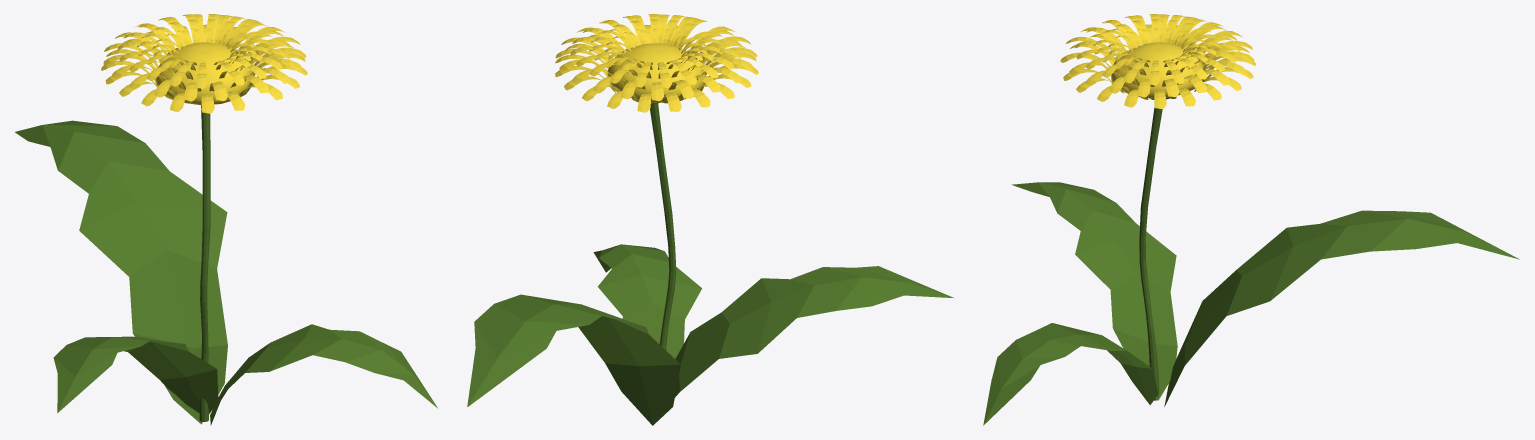
The model's file is Dandelion.fbx.
3 renders of one model, left to right at view 1: azimuth 30°, elevation 25°; view 2: azimuth 150°, elevation 25°; view 3: azimuth 270°, elevation 25°, orthographic. The views are drawn at different scales.
Parts seen in each view (by area): view 1: Plane, Plane.002, Plane.001, Plane.004, Plane.005, Mball.002, Plane.003, Cylinder, Plane.006, Plane.007; view 2: Plane, Plane.002, Plane.001, Plane.004, Plane.005, Plane.003, Mball.002, Cylinder, Plane.006, Plane.007; view 3: Plane, Plane.002, Plane.001, Plane.004, Plane.005, Plane.003, Mball.002, Cylinder, Plane.006, Plane.007.
Part boxes in pixels (x1,y1,x2,y2): Plane: (15,120,227,424); Plane.002: (53,336,218,413); Plane.001: (210,324,437,424); Plane.004: (103,14,306,101); Plane.005: (117,14,290,88); Mball.002: (155,42,253,105); Plane.003: (101,24,307,113); Cylinder: (199,105,210,421); Plane.006: (136,19,271,74); Plane.007: (152,28,256,70); Plane: (467,294,680,425); Plane.002: (663,266,954,409); Plane.001: (593,244,701,358); Plane.004: (555,14,757,101); Plane.005: (570,14,741,87); Plane.003: (555,25,758,112); Mball.002: (607,43,704,102); Cylinder: (650,102,676,350); Plane.006: (589,19,722,74); Plane.007: (604,27,707,71); Plane: (1164,210,1519,406); Plane.002: (1011,182,1177,400); Plane.001: (983,323,1158,425); Plane.004: (1061,14,1254,97); Plane.005: (1075,14,1240,85); Plane.003: (1060,24,1255,109); Mball.002: (1111,42,1204,98); Cylinder: (1139,97,1170,400); Plane.006: (1093,19,1222,73); Plane.007: (1108,28,1206,68).
Size of the model in its own units: 970 by 969 by 1293.
